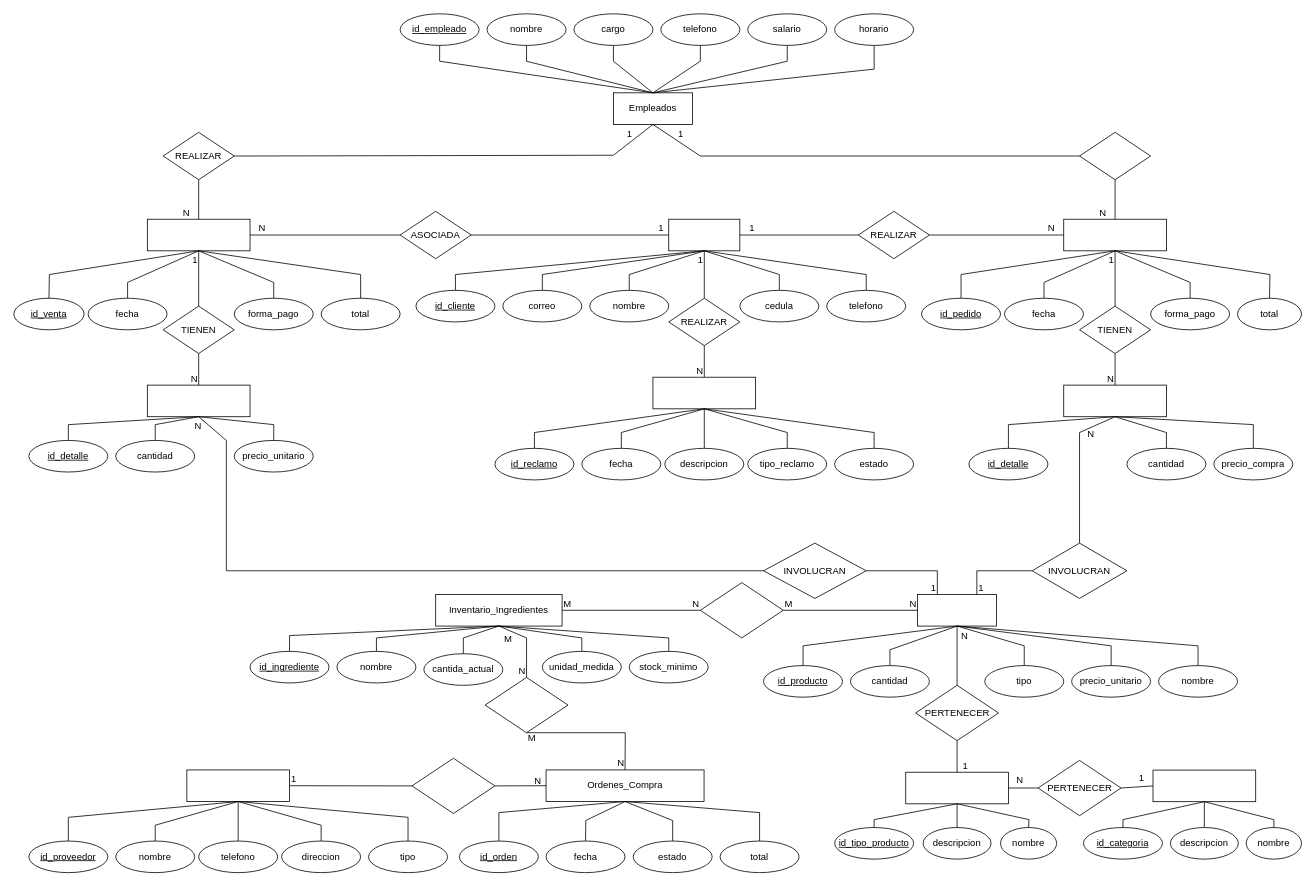
The diagram is 1315 pixels wide and 887 high, and some of its shapes have lost their labels. The shapes that lost their labels are listed below. From the top down, each one's centre as x and y in pixels, then its label:
At (1115,156): "ATIENDER".
At (198,234): "Ventas".
At (704,234): "Clientes".
At (1114,234): "Pedidos".
At (198,400): "Detalles_Ventas".
At (704,392): "Sugerencias".
At (1114,400): "Detalles_Pedido".
At (741,610): "COMPONEN".
At (957,610): "Productos".
At (526,705): "ABASTECE".
At (238,785): "Proveedores".
At (453,785): "EMITEN".
At (956,787): "Tipos_Producto".
At (1204,785): "Categorias_Producto".
